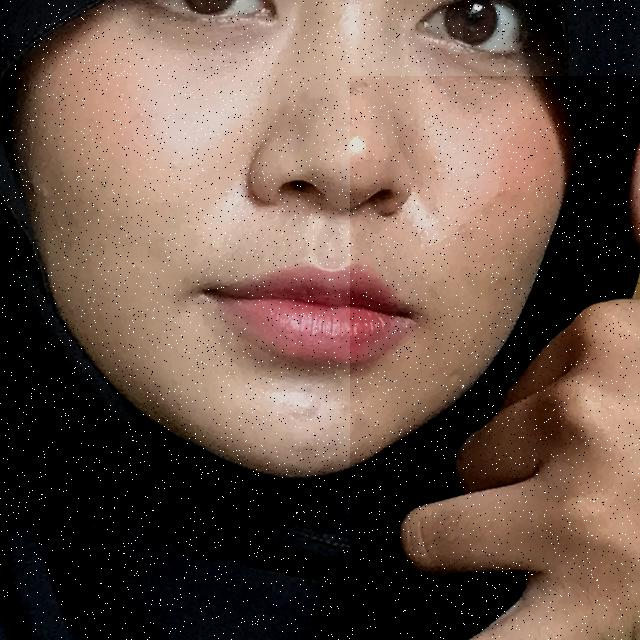telpon: (350, 76, 640, 640)
